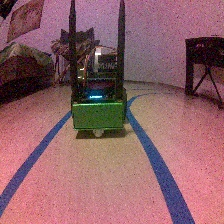rob: (69, 52, 127, 138)
